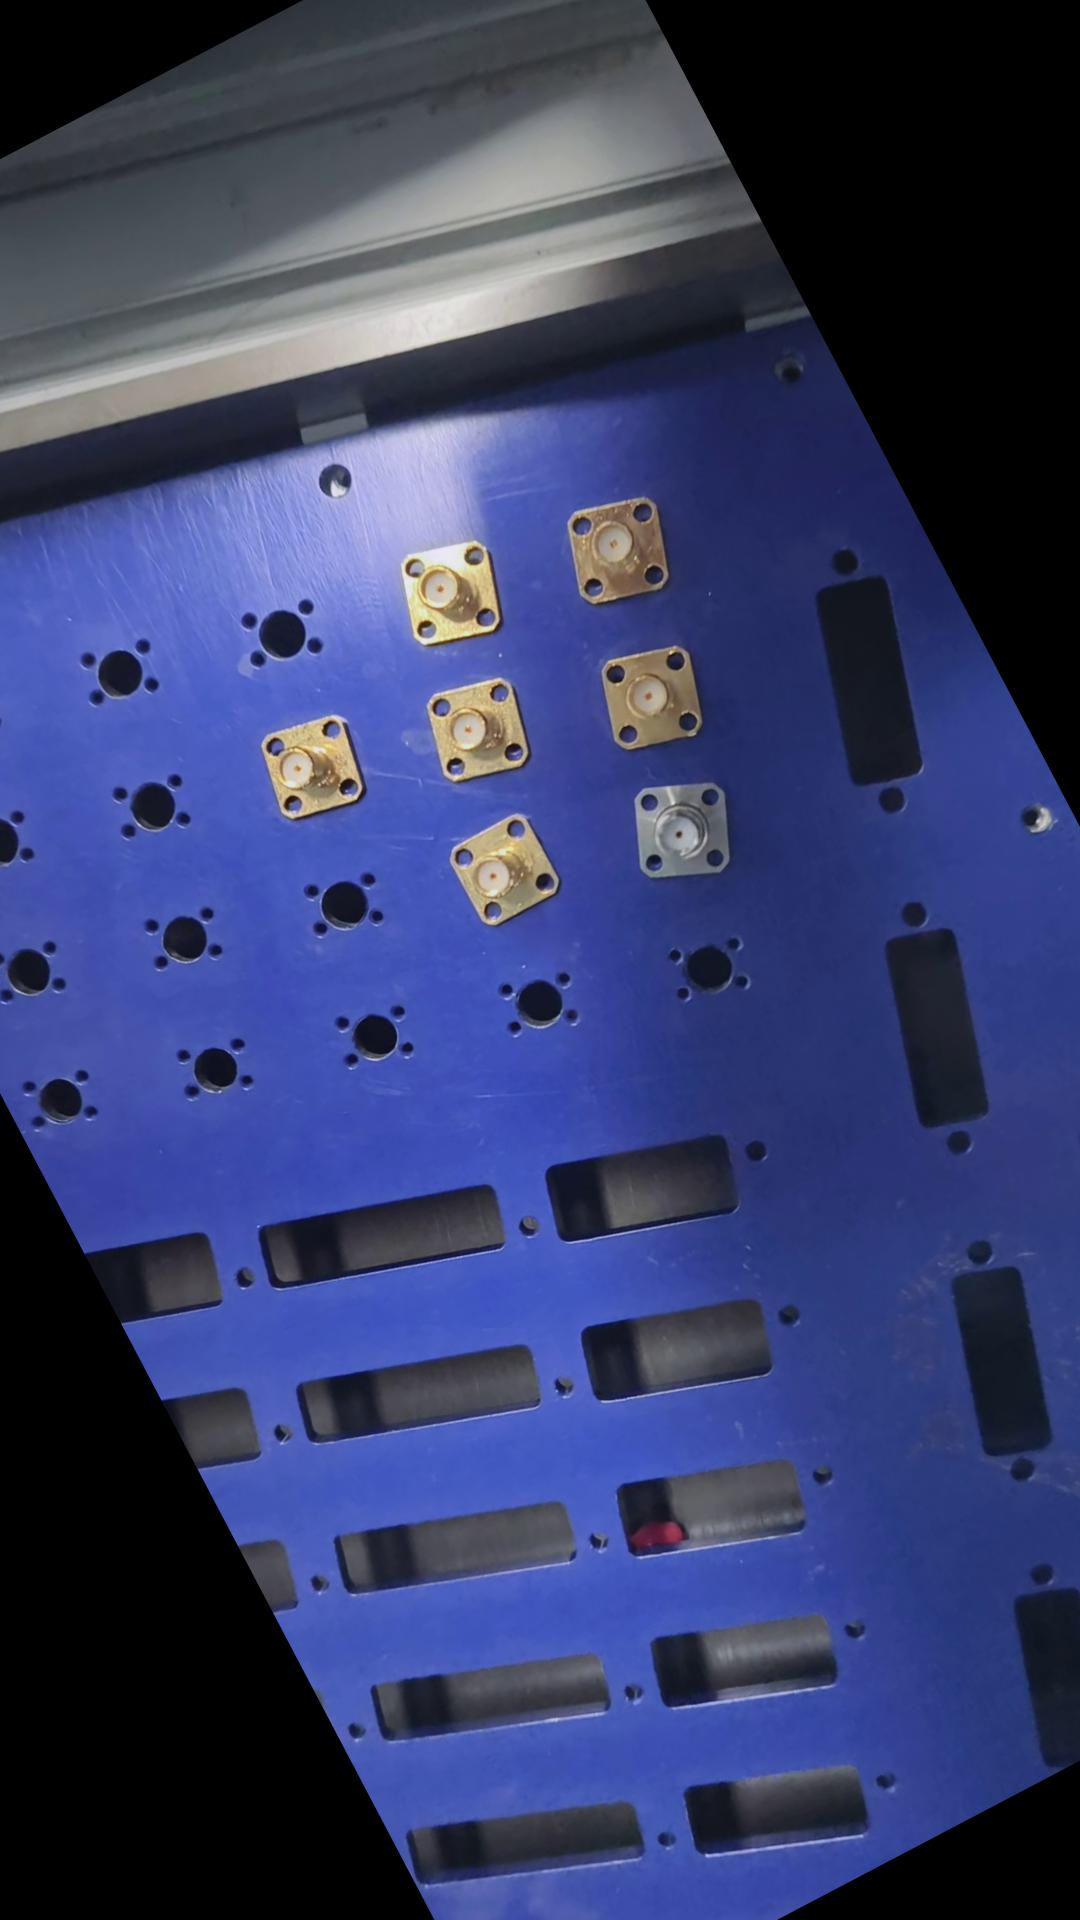SMA: (538, 476, 696, 629), (599, 757, 756, 907), (367, 520, 520, 667), (572, 628, 720, 771), (430, 800, 576, 944), (401, 663, 549, 803), (241, 699, 380, 841)
